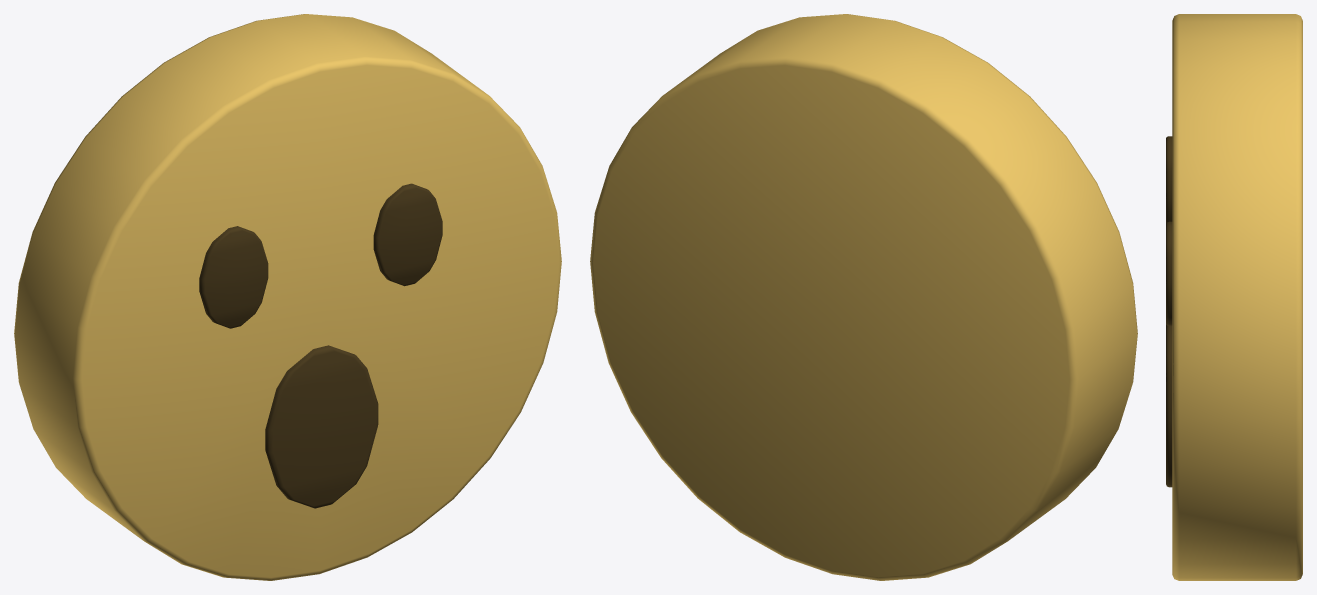
Rendered from surprised.fbx.
3 views of the same model, side by side, from view 1: azimuth 30°, elevation 25°; view 2: azimuth 150°, elevation 25°; view 3: azimuth 270°, elevation 25° (orthographic).
Parts seen in each view (by area): view 1: polySurface4; view 2: polySurface4; view 3: polySurface4.
Boxes of the visible parts, <box> form: polySurface4: <box>14,14,561,580</box>; polySurface4: <box>590,14,1137,580</box>; polySurface4: <box>1166,14,1302,580</box>.
Bounding box in the file's own units: 86.86 × 86.86 × 20.96.
